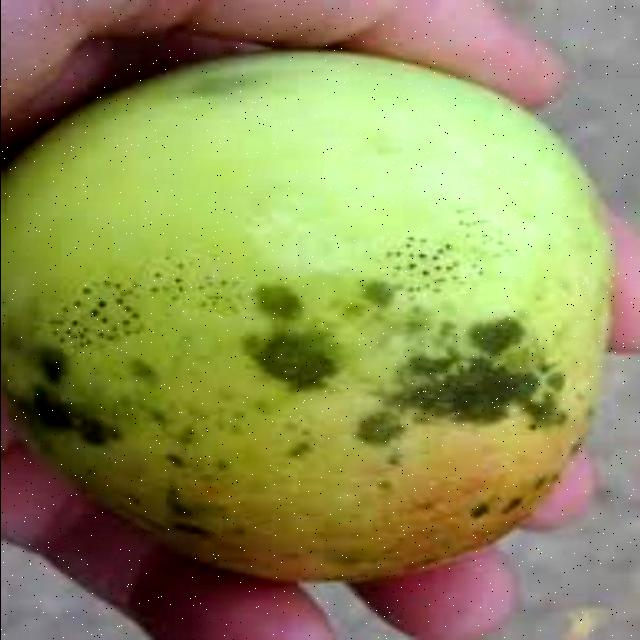BLOTCH: (8, 42, 636, 589)
